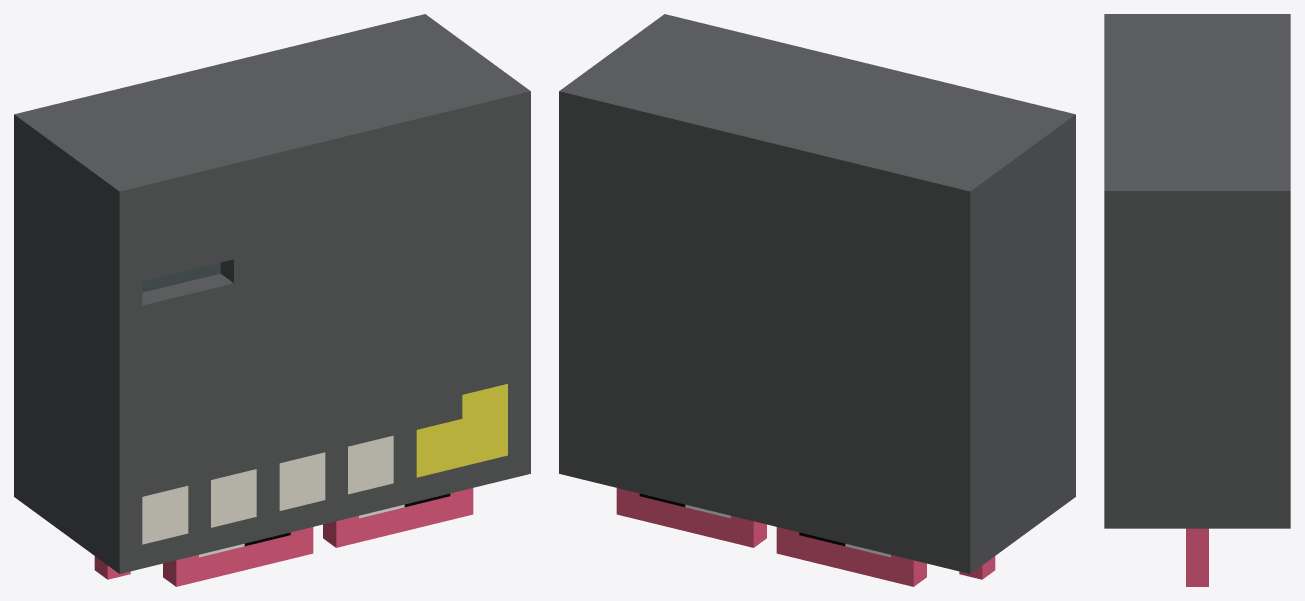
File: cashregister.glb
The picture shows the model from 3 angles, left to right: view 1: azimuth 30°, elevation 25°; view 2: azimuth 150°, elevation 25°; view 3: azimuth 270°, elevation 25°; orthographic projection. The views are drawn at different scales.
Parts seen in each view (by area): view 1: base, glasses; view 2: base, glasses; view 3: base, glasses.
Boxes of the visible parts, <box> form: base: <box>14,14,530,573</box>; glasses: <box>94,488,473,586</box>; base: <box>559,14,1075,573</box>; glasses: <box>616,488,995,586</box>; base: <box>1104,14,1290,528</box>; glasses: <box>1186,528,1208,586</box>.
Size of the model in its own units: 18 by 19 by 8.
Materials: 18 (18 with a texture image).
